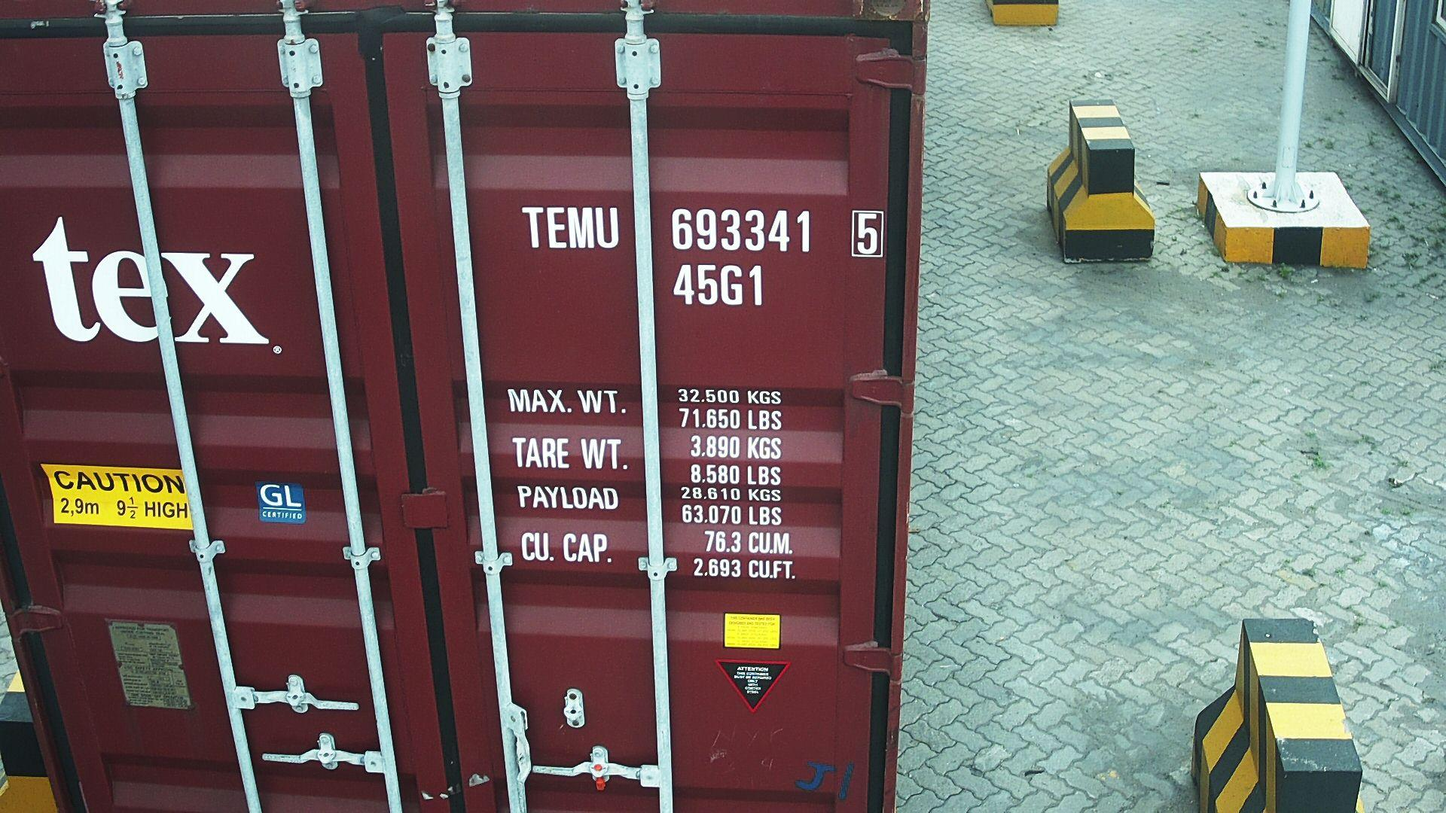container-numbers: (520, 202, 888, 260), (669, 261, 769, 309)
